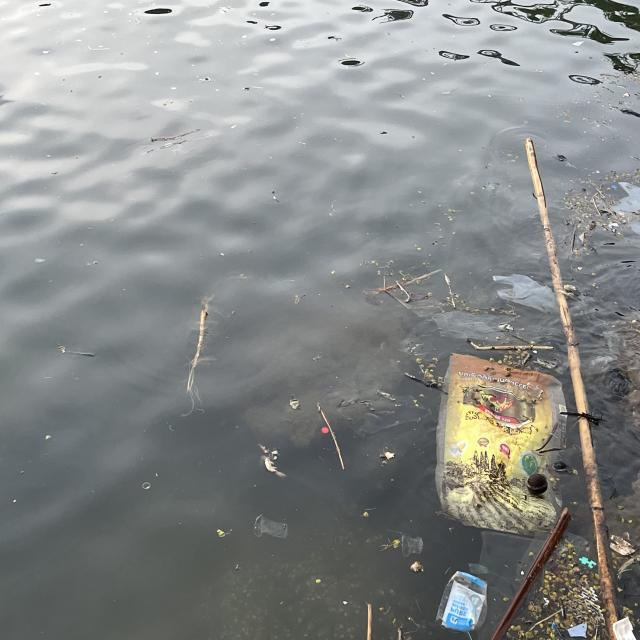foam: (615, 616, 640, 640)
